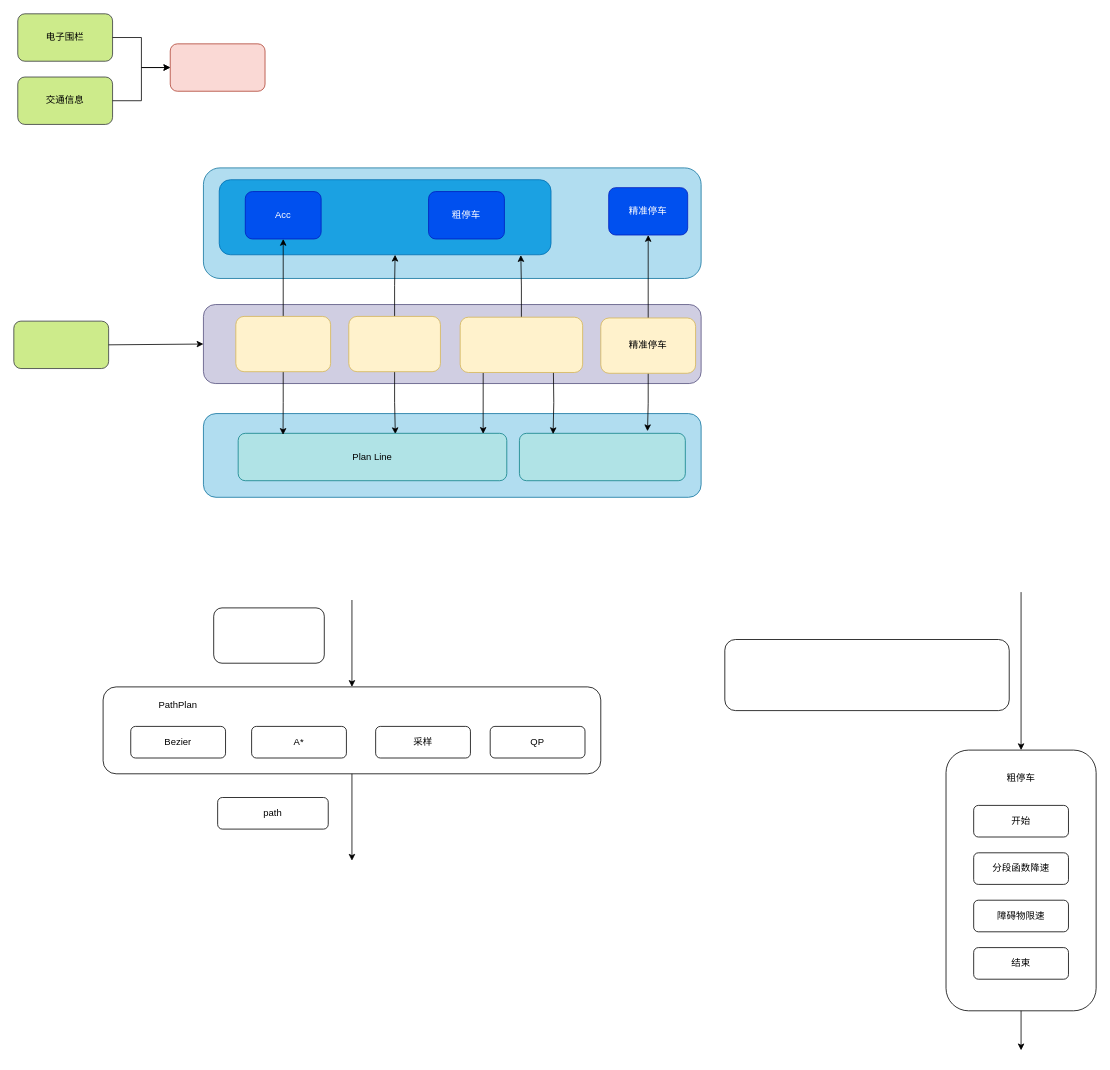
The diagram is 1110 pixels wide and 1070 high, and some of its shapes have lost their labels. The shapes that lost their labels are listed below. From the top down, each one's centre as x and y in pixels, then its label:
the point at 217,67: Virture Obs
the point at 61,344: 任务状态
the point at 283,344: 桥吊穿行任务
the point at 394,344: 换道任务进行
the point at 521,344: 巡航
the point at 602,457: Map Line
the point at 268,635: 1. 起点 2.终点 3.状态
the point at 866,675: 距离终点距长度（根据调度系统1,2,3信息调整） < 阈值 1. 是否有作业箱位 2. 作业箱位 3. 锁钮机任务 4.
